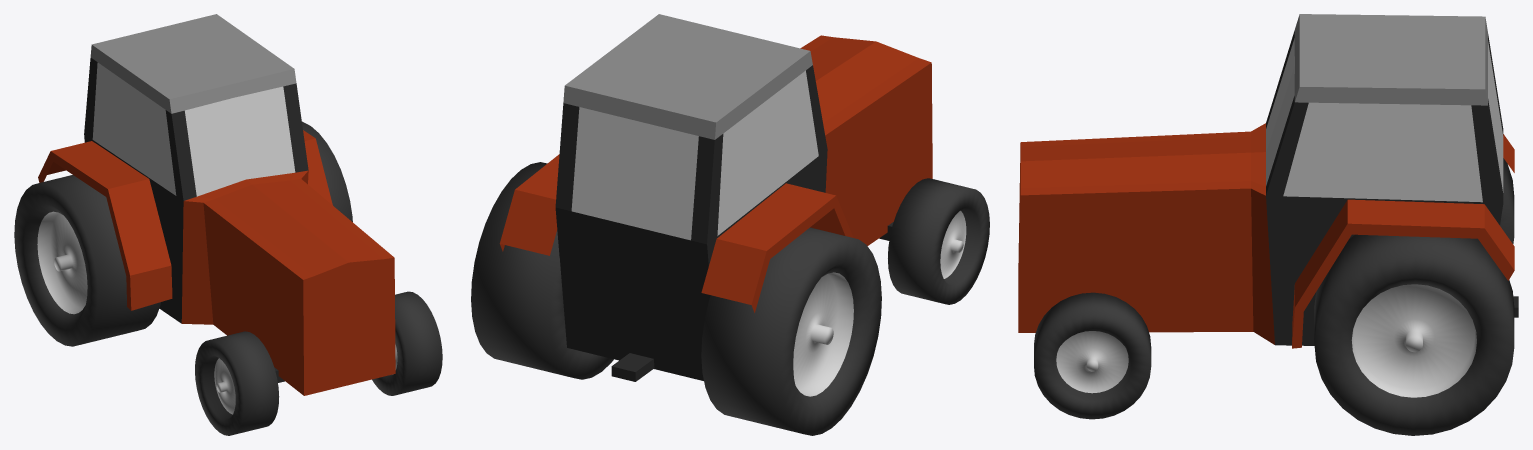
Rendered from tractor.dae.
3 views of the same model, side by side, from view 1: azimuth 30°, elevation 25°; view 2: azimuth 150°, elevation 25°; view 3: azimuth 270°, elevation 25° (orthographic). The views are drawn at different scales.
Parts seen in each view (by area): view 1: body, wheel_rear_right, wheel_front_right, wheel_front_left, wheel_rear_left; view 2: body, wheel_rear_right, wheel_rear_left, wheel_front_right, hitch; view 3: body, wheel_rear_left, wheel_front_left, wheel_rear_right.
Part boxes in pixels (left/top/right/bottom): body: left=38, top=14, right=395, bottom=395; wheel_rear_right: left=14, top=175, right=160, bottom=346; wheel_front_right: left=195, top=331, right=279, bottom=435; wheel_front_left: left=372, top=291, right=442, bottom=395; wheel_rear_left: left=302, top=121, right=352, bottom=221; body: left=499, top=14, right=932, bottom=380; wheel_rear_right: left=701, top=227, right=881, bottom=435; wheel_rear_left: left=471, top=162, right=613, bottom=379; wheel_front_right: left=888, top=178, right=989, bottom=304; hitch: left=611, top=353, right=654, bottom=381; body: left=1018, top=14, right=1514, bottom=348; wheel_rear_left: left=1314, top=234, right=1514, bottom=435; wheel_front_left: left=1034, top=292, right=1151, bottom=419; wheel_rear_right: left=1500, top=158, right=1514, bottom=243.
Bounding box in the file's own units: 2.71 × 3.85 × 2.64.
